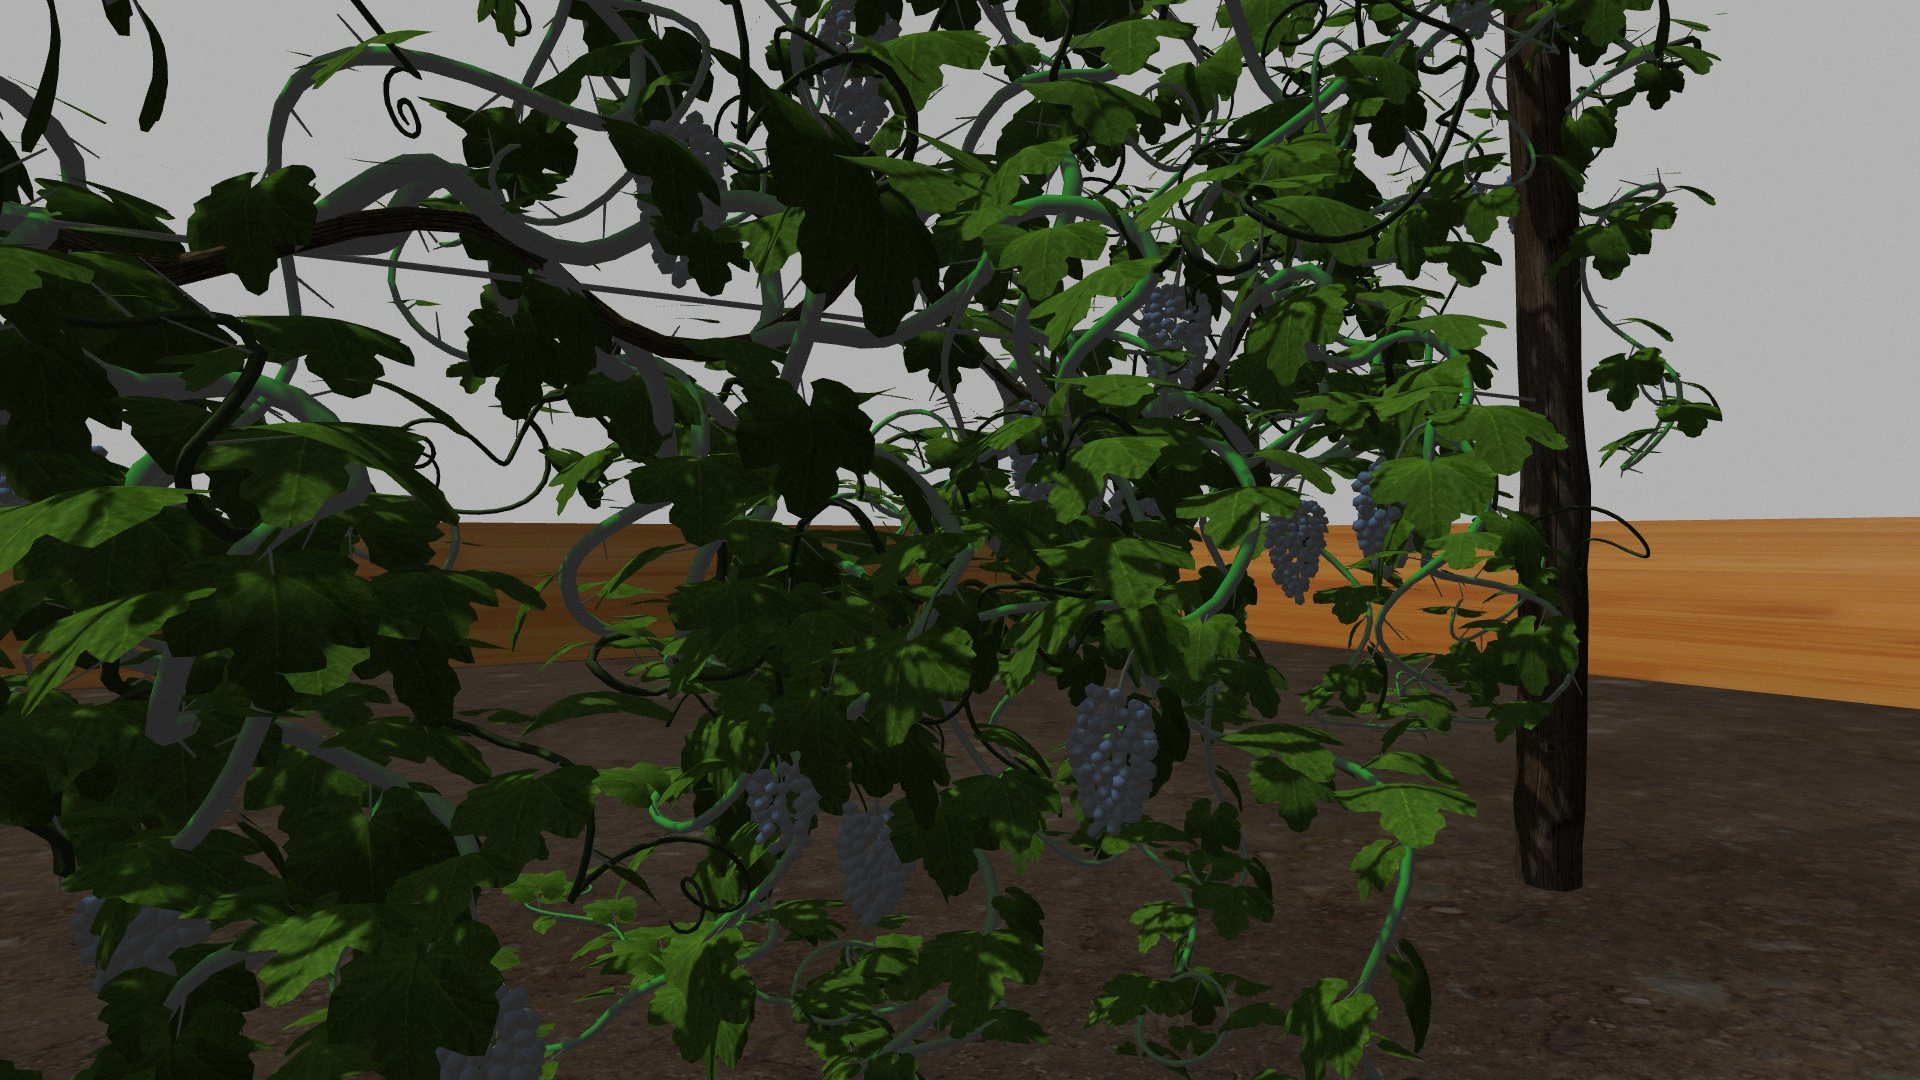grape: (1069, 684, 1160, 840), (829, 803, 914, 928), (1134, 281, 1211, 386), (744, 758, 822, 858), (1350, 465, 1416, 574), (1265, 496, 1327, 604)
